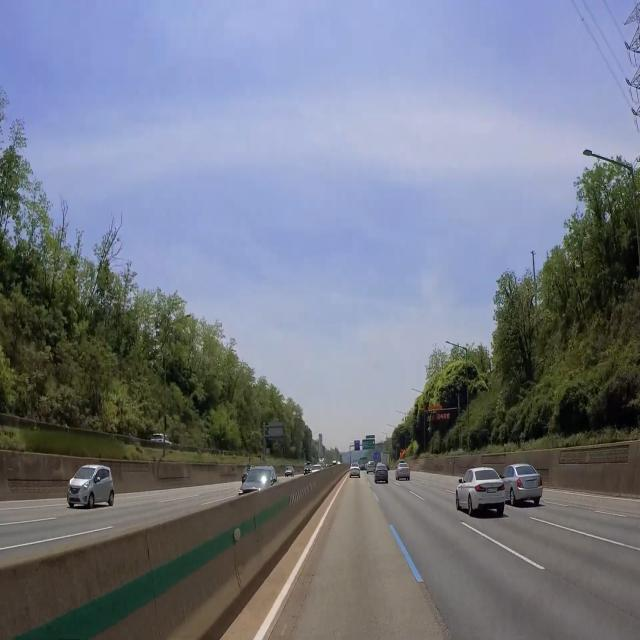car: (524, 477, 539, 494), (485, 484, 501, 498), (68, 490, 80, 504), (378, 473, 386, 478), (401, 469, 408, 474), (351, 472, 359, 476)
